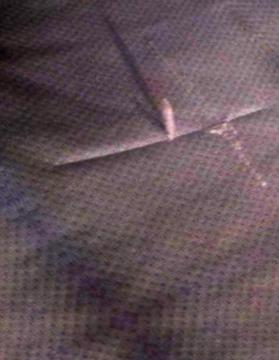snag: (141, 85, 196, 148)
